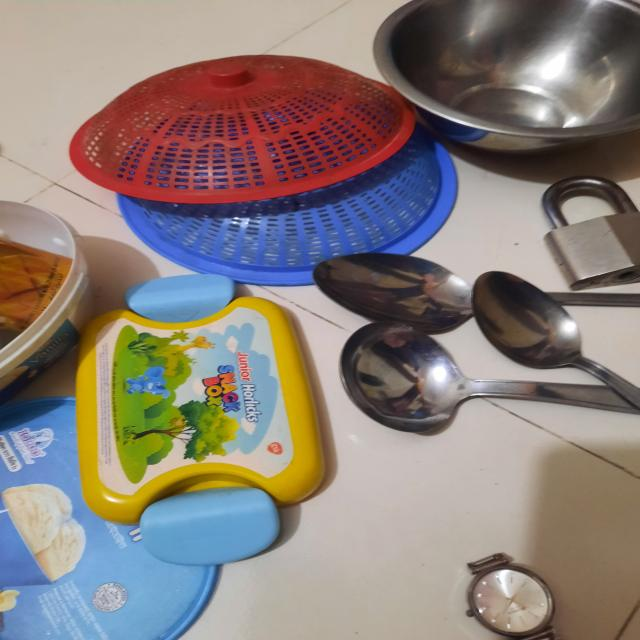E-waste: (448, 541, 579, 640)
Metal: (307, 186, 640, 450), (403, 0, 640, 165)
Plastics: (0, 18, 321, 640)
